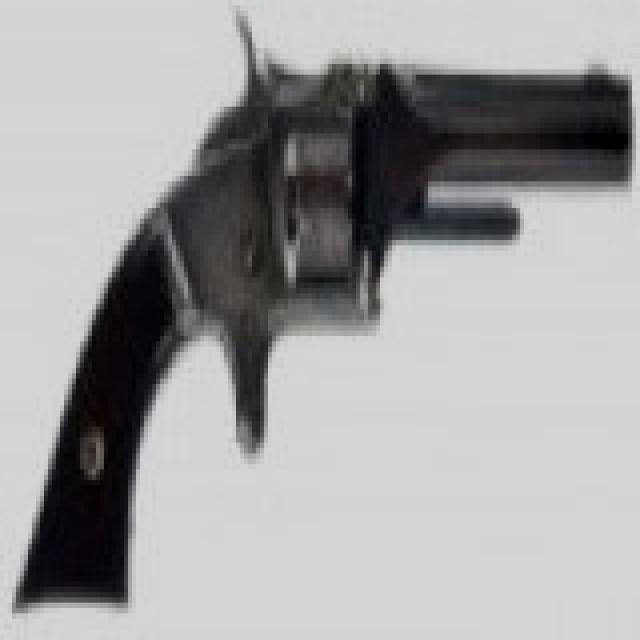pistol: (12, 21, 640, 603)
